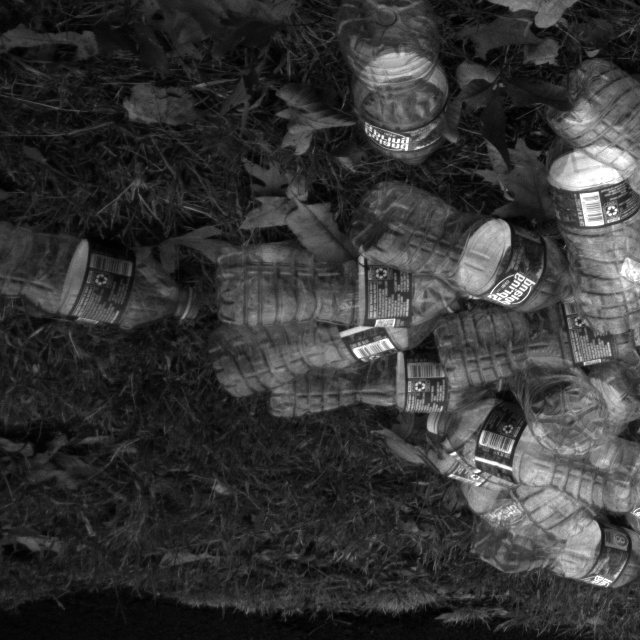bottle: (342, 179, 568, 319), (419, 393, 640, 517), (204, 289, 455, 398), (540, 97, 640, 340), (1, 216, 191, 335), (212, 252, 465, 331), (443, 293, 640, 389), (263, 350, 509, 425), (339, 0, 447, 170), (548, 55, 640, 247), (469, 507, 640, 590)
